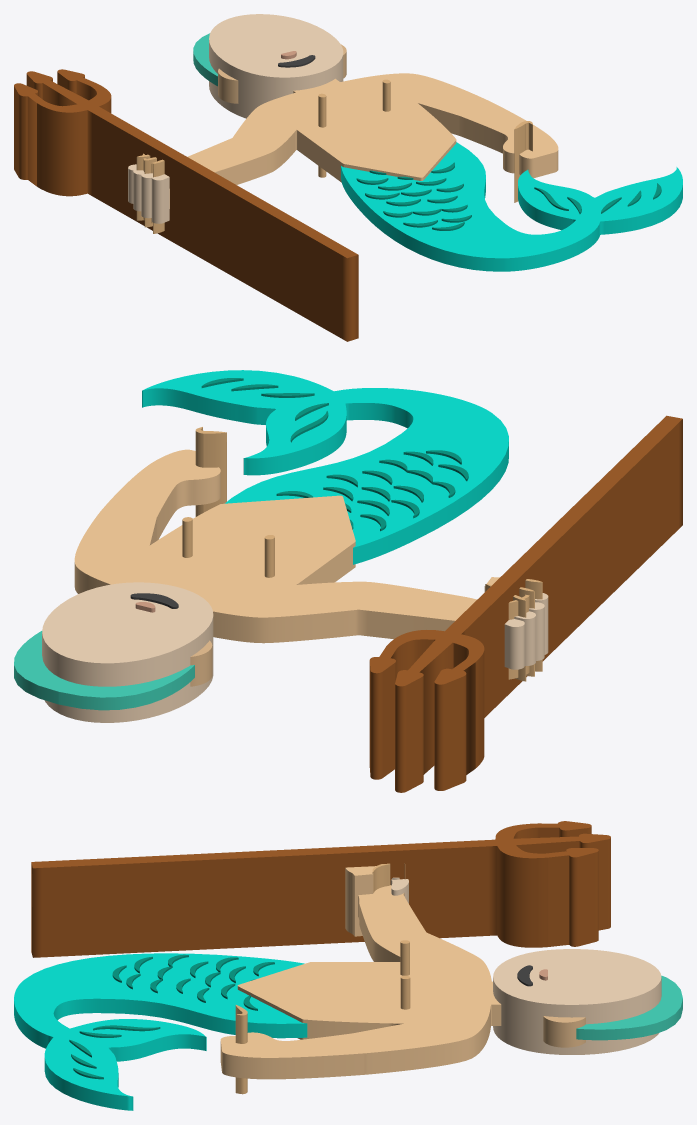
Rendered from emoji_u1f9dc_1f3fb_200d_2642.glb.
3 views of the same model, one above another, from view 1: azimuth 30°, elevation 25°; view 2: azimuth 150°, elevation 25°; view 3: azimuth 270°, elevation 25° (orthographic). The views are drawn at different scales.
Visible parts, largest first — view 1: emoji_u1f9dc_1f3fb_200d_2642; view 2: emoji_u1f9dc_1f3fb_200d_2642; view 3: emoji_u1f9dc_1f3fb_200d_2642.
Boxes of the visible parts, x1,y1,x2,y2 form: emoji_u1f9dc_1f3fb_200d_2642: [14, 14, 682, 341]; emoji_u1f9dc_1f3fb_200d_2642: [14, 370, 682, 792]; emoji_u1f9dc_1f3fb_200d_2642: [14, 821, 682, 1110].
Bounding box in the file's own units: 0.0285 × 0.005 × 0.0339.
